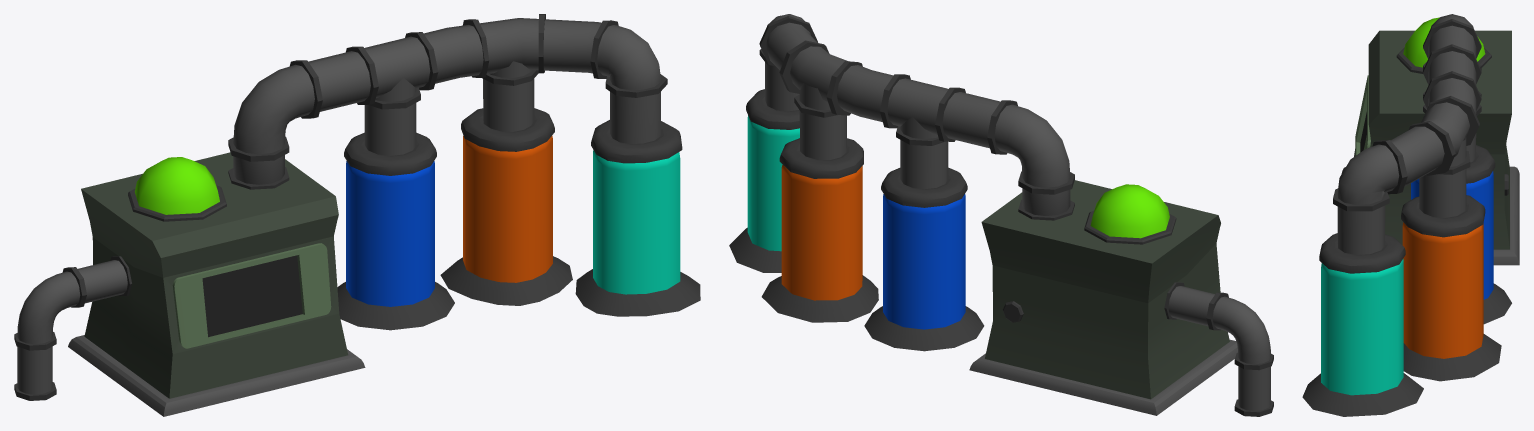
Rendered from CoolantSynthesizer.fbx.
3 views of the same model, side by side, from view 1: azimuth 30°, elevation 25°; view 2: azimuth 150°, elevation 25°; view 3: azimuth 270°, elevation 25° (orthographic). The views are drawn at different scales.
Parts seen in each view (by area): view 1: CoolantResevoirBent, CoolantSynthBase, OutputPipe, MonitorScreen, CoolantPreview; view 2: CoolantResevoirBent, CoolantSynthBase, OutputPipe, CoolantPreview; view 3: CoolantResevoirBent, CoolantSynthBase, CoolantPreview.
Part boxes in pixels (<box>): CoolantResevoirBent: <box>228,14,700,330</box>; CoolantSynthBase: <box>68,152,365,416</box>; OutputPipe: <box>14,256,131,400</box>; MonitorScreen: <box>202,255,302,337</box>; CoolantPreview: <box>128,157,226,221</box>; CoolantResevoirBent: <box>729,14,1074,351</box>; CoolantSynthBase: <box>969,180,1237,415</box>; OutputPipe: <box>1164,282,1273,416</box>; CoolantPreview: <box>1084,184,1176,244</box>; CoolantResevoirBent: <box>1302,14,1511,416</box>; CoolantSynthBase: <box>1341,30,1519,265</box>; CoolantPreview: <box>1396,17,1491,73</box>.
Size of the model in its own units: 10.34 by 4.2 by 3.35.
